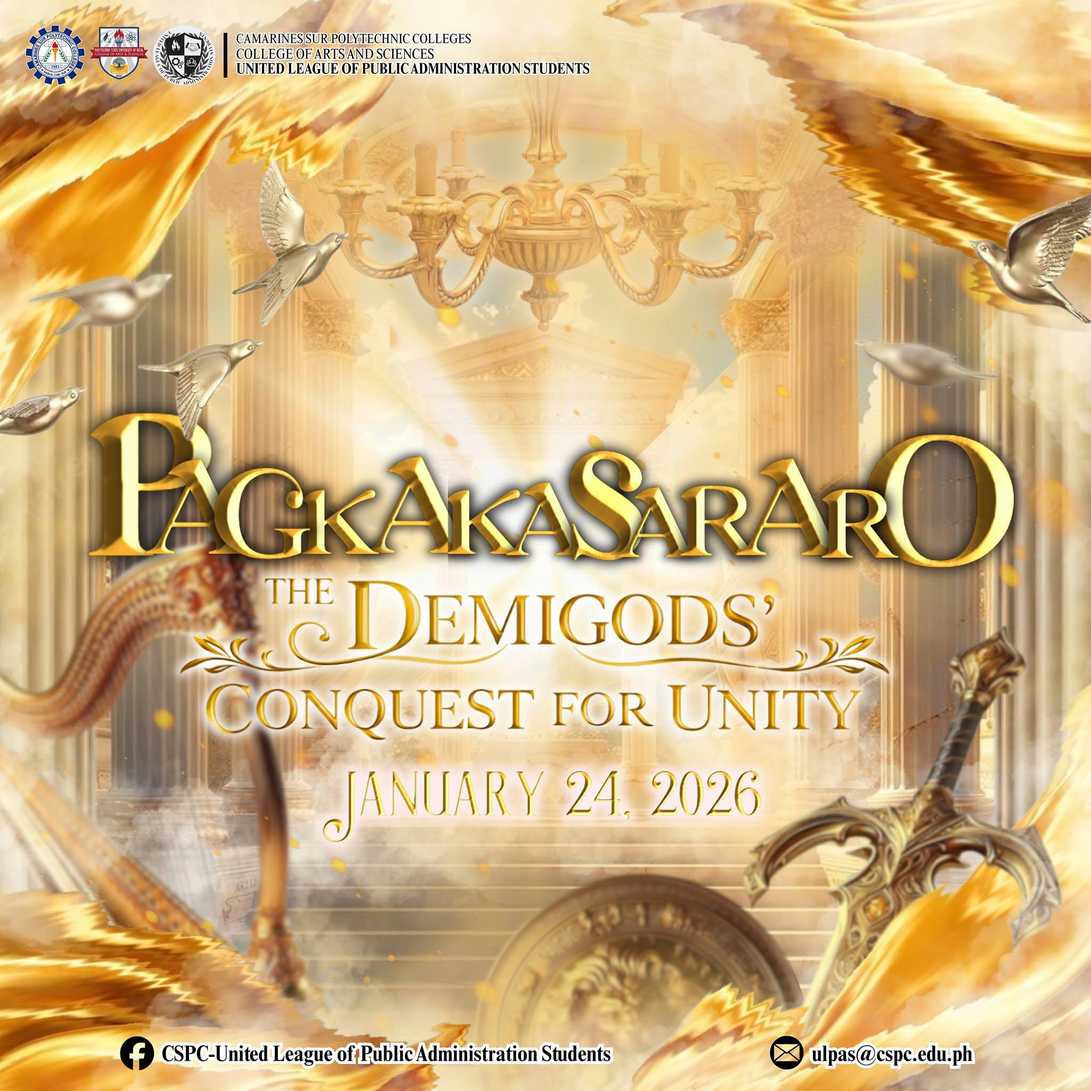embellishment: (731, 619, 1076, 1026), (252, 154, 356, 345), (934, 211, 1091, 329), (139, 329, 262, 405), (44, 275, 176, 329), (765, 1026, 811, 1080), (112, 1025, 156, 1081)
logo: (16, 20, 92, 91), (146, 25, 217, 89), (89, 21, 149, 78)
text: (98, 403, 1028, 857), (233, 27, 602, 84), (160, 1028, 625, 1073), (813, 1035, 981, 1074)
